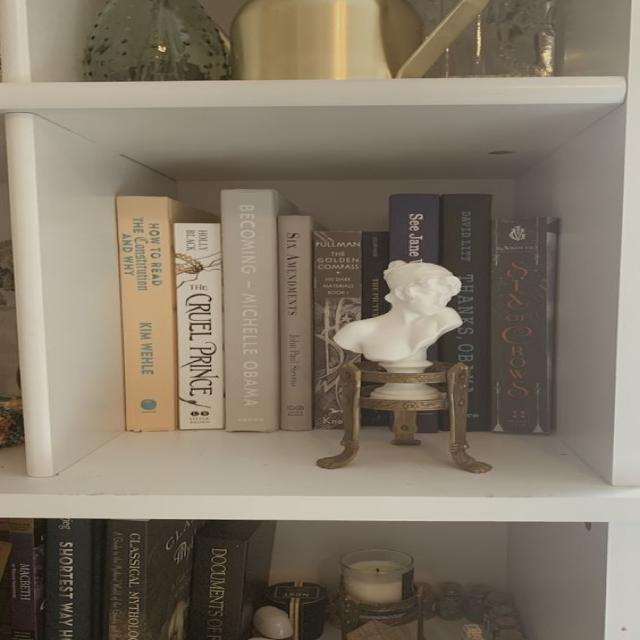book: (492, 216, 557, 433), (119, 196, 175, 430), (438, 195, 490, 431), (225, 190, 276, 430), (313, 232, 362, 429), (178, 225, 222, 428), (278, 215, 310, 433), (389, 193, 440, 264), (362, 232, 389, 318)
